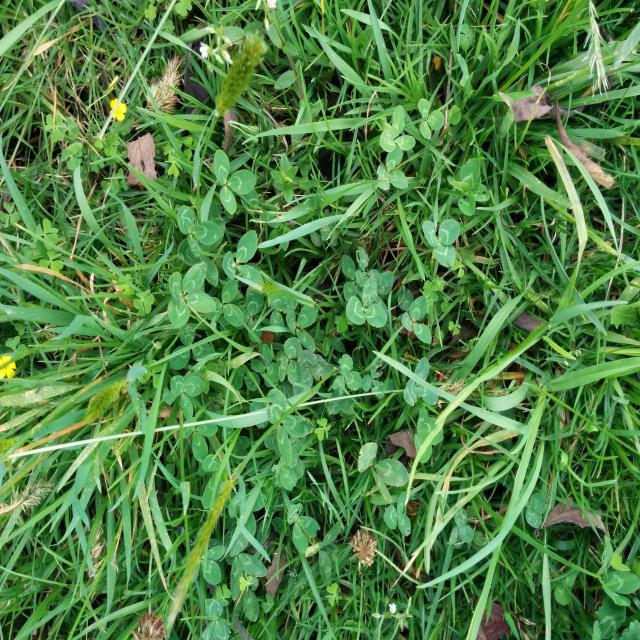Four Leaf Clover: (168, 261, 217, 327)
